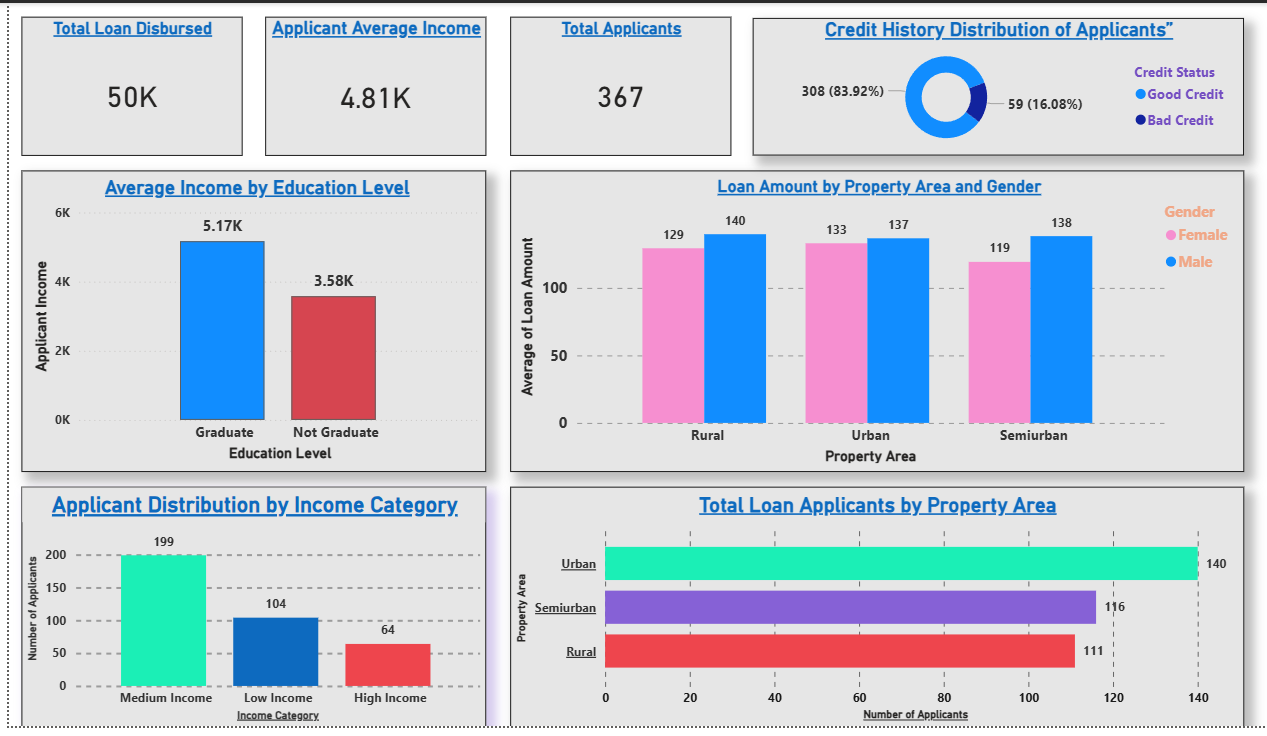

The dashboard page shown, as its layout file describes it:
{"tool":"powerbi","page":{"name":"Dashboard","canvas":[1280,720],"ordinal":5},"visuals":[{"type":"card","title":"Total Loan Disbursed","fields":{"Values":["Sum(loan_cleaned.Loan Amount)"]},"box":[12.4,13.7,220,138.1],"z":0},{"type":"card","title":"Applicant Average Income","fields":{"Values":["Avg(loan_cleaned.Applicant Income)"]},"box":[255,13.7,220.2,138.1],"z":1000},{"type":"card","title":"Total Applicants","fields":{"Values":["CountNonNull(loan_cleaned.Loan_ID)"]},"box":[498.8,13.7,220.2,138.1],"z":2000},{"type":"clusteredColumnChart","title":"Average Income by Education Level","fields":{"Category":["loan_cleaned.Education Level"],"Y":["Avg(loan_cleaned.Applicant Income)"]},"box":[12.4,166.7,462.8,299.8],"z":3000},{"type":"clusteredColumnChart","title":" Loan Amount by Property Area and Gender","fields":{"Category":["loan_cleaned.Property Area"],"Y":["Avg(loan_cleaned.Loan Amount)"],"Series":["loan_cleaned.Gender"]},"box":[498.8,166.7,730.2,299.8],"z":4000},{"type":"donutChart","title":"Credit History Distribution of Applicants”","fields":{"Category":["loan_cleaned.Credit Status"],"Y":["CountNonNull(loan_cleaned.Loan_ID)"]},"box":[740.2,14.9,488.9,136.8],"z":6000},{"type":"clusteredBarChart","title":"Total Loan Applicants by Property Area","fields":{"Category":["loan_cleaned.Property Area"],"Y":["CountNonNull(loan_cleaned.Loan_ID)"]},"box":[498.8,481.4,730.2,238.8],"z":7000},{"type":"clusteredColumnChart","title":"Applicant Distribution by Income Category","fields":{"Category":["loan_cleaned.Income Category"],"Y":["CountNonNull(loan_cleaned.Loan_ID)"]},"box":[12.4,481.4,462.8,238.8],"z":8000}]}

Visuals, with their boxes in screenshot pixels (x1, y1, x2, y2):
"Total Loan Disbursed" card: BBox(16, 11, 238, 150)
"Applicant Average Income" card: BBox(261, 11, 484, 150)
"Total Applicants" card: BBox(508, 11, 731, 150)
"Average Income by Education Level" clusteredColumnChart: BBox(16, 165, 484, 469)
" Loan Amount by Property Area and Gender" clusteredColumnChart: BBox(508, 165, 1247, 469)
"Credit History Distribution of Applicants”" donutChart: BBox(752, 12, 1247, 150)
"Total Loan Applicants by Property Area" clusteredBarChart: BBox(508, 484, 1247, 726)
"Applicant Distribution by Income Category" clusteredColumnChart: BBox(16, 484, 484, 726)
